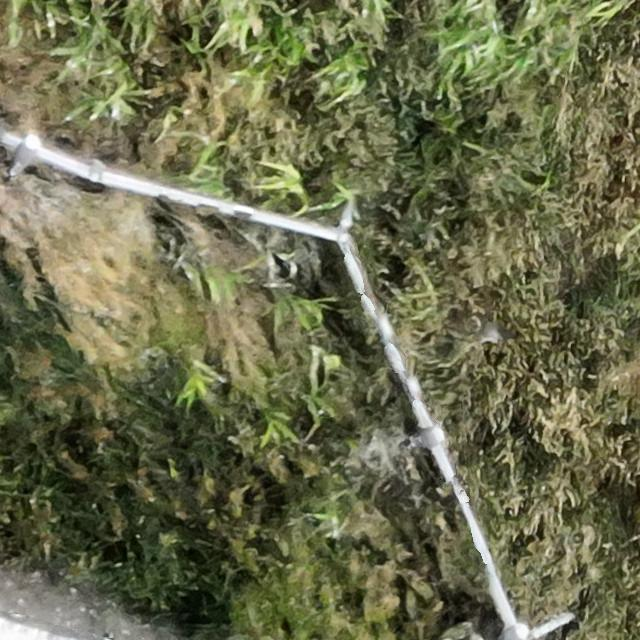umineko: (12, 133, 40, 170), (409, 428, 444, 448)
